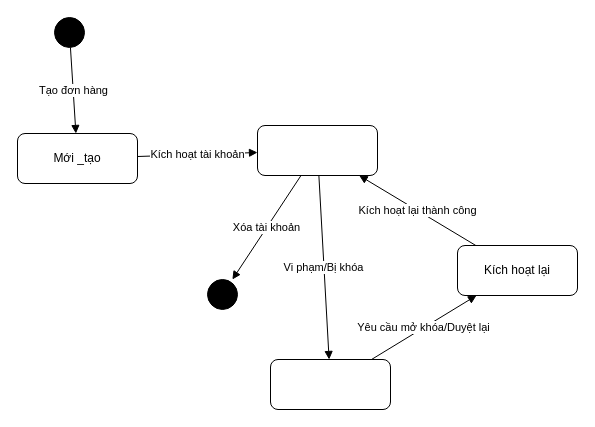
The diagram is 595 pixels wide and 427 high, and some of its shapes have lost their labels. Here are the shapes that lost their labels. From the top down, the centre of each, then its label:
At point (317, 150): "Hoạt động".
At point (330, 384): "Bị khóa".
